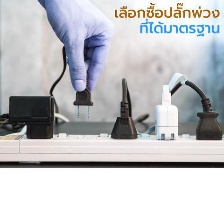three_eye_plug: (0, 131, 224, 166)
